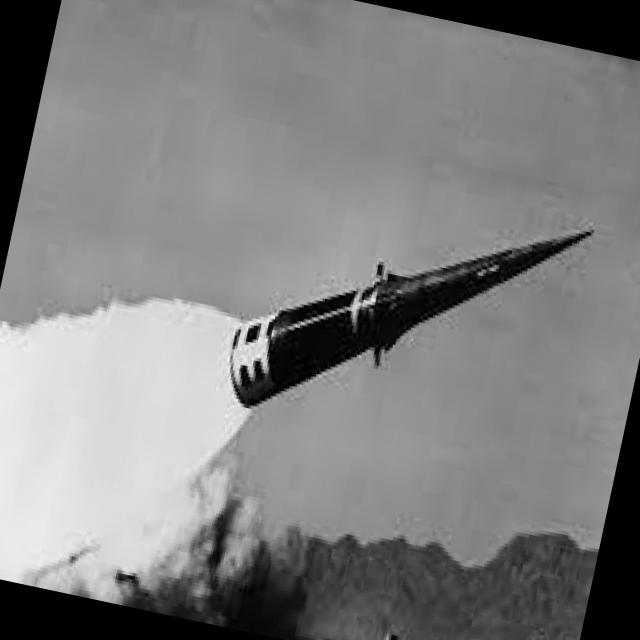rocket: (90, 131, 597, 568)
